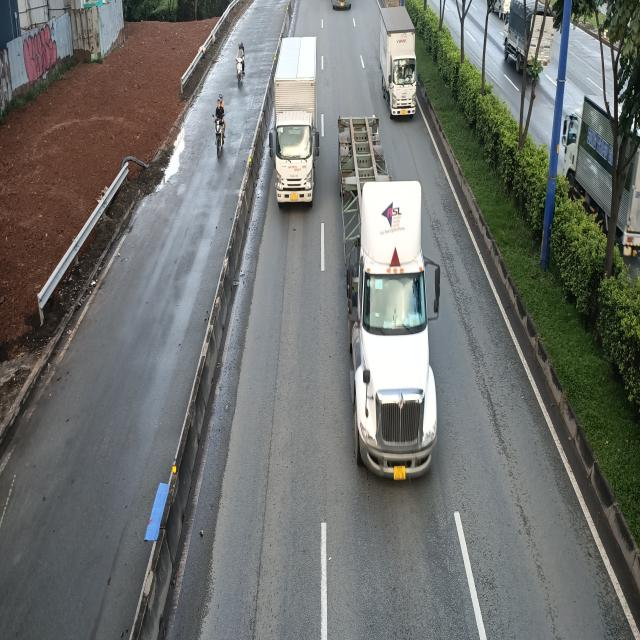container: (338, 115, 441, 482)
truck: (269, 38, 323, 209), (381, 5, 421, 117)
